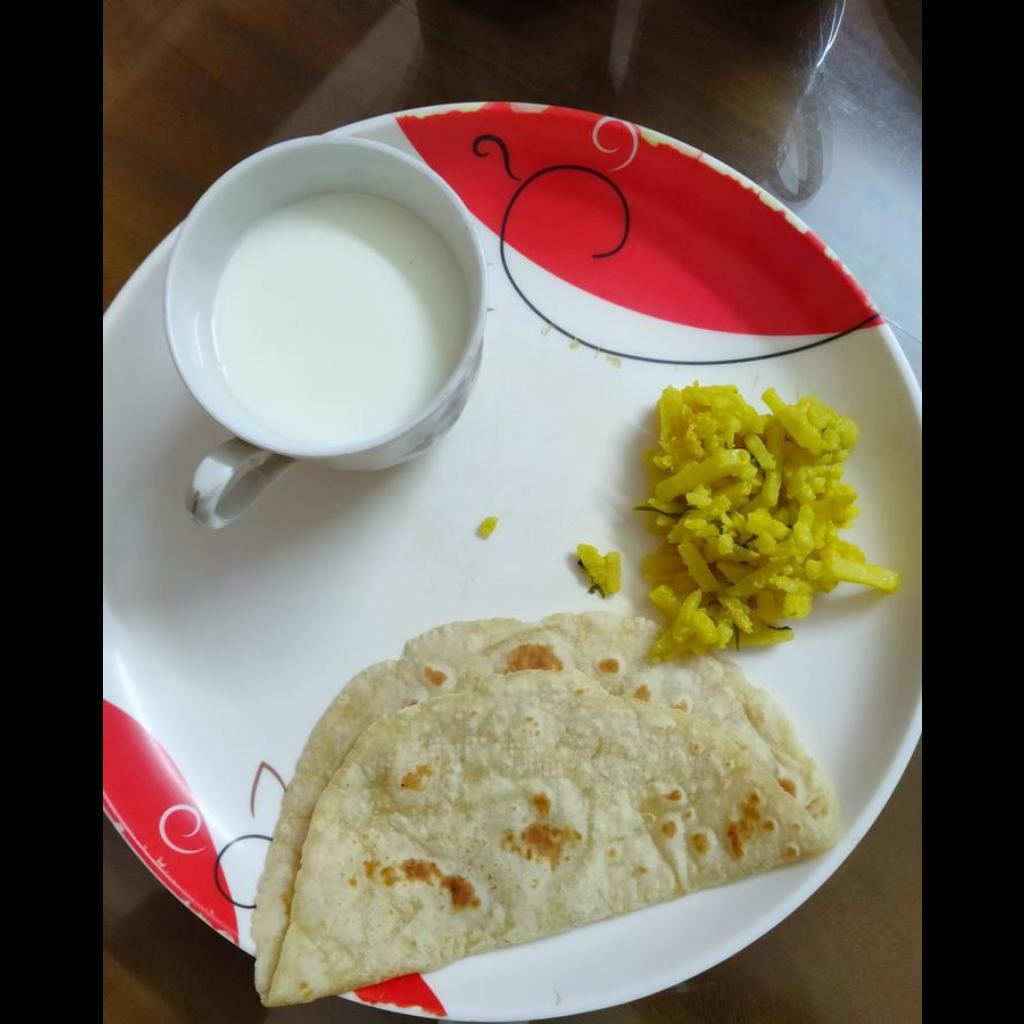milk: (210, 192, 467, 437)
ruti: (250, 612, 836, 1000)
vaji: (641, 379, 901, 659)
